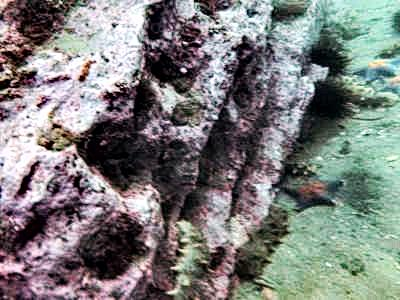urchin: (314, 78, 346, 116), (308, 41, 344, 70)
